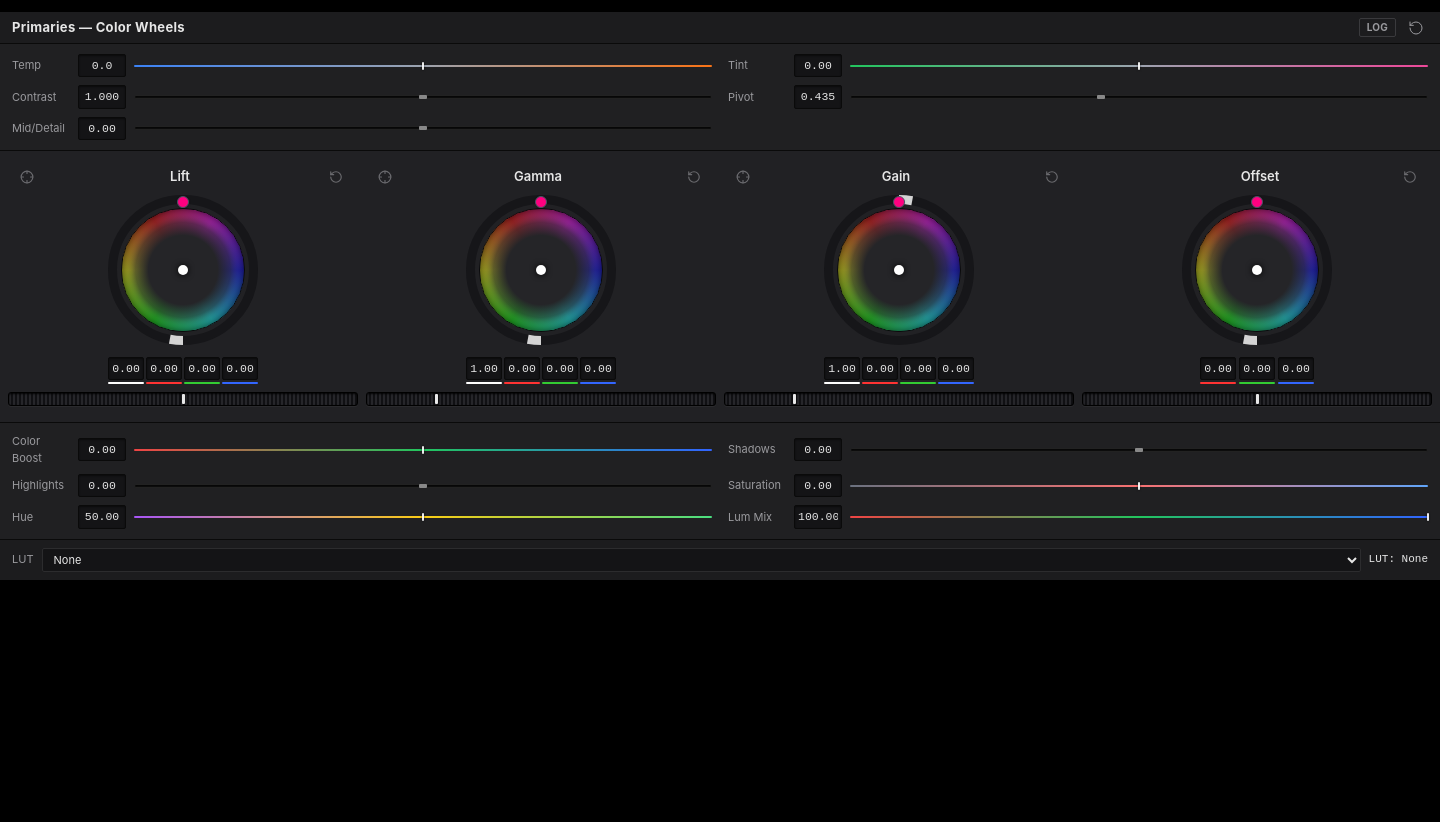
Test: R25-W3 (A3): the disc drag — RELATIVE/ACCUMULATING, live, rim-clamped › the YRGB readouts update LIVE during the drag (before pointer-up)
The image size is (1440, 822).
Expected: the picture named "Lift B" reads "0.00", left=226, top=362, right=254, bottom=375
Press the mouse on the picture with test id "shell-color-wheel-lift" at (183, 270), box left=108, top=195, right=258, bottom=345
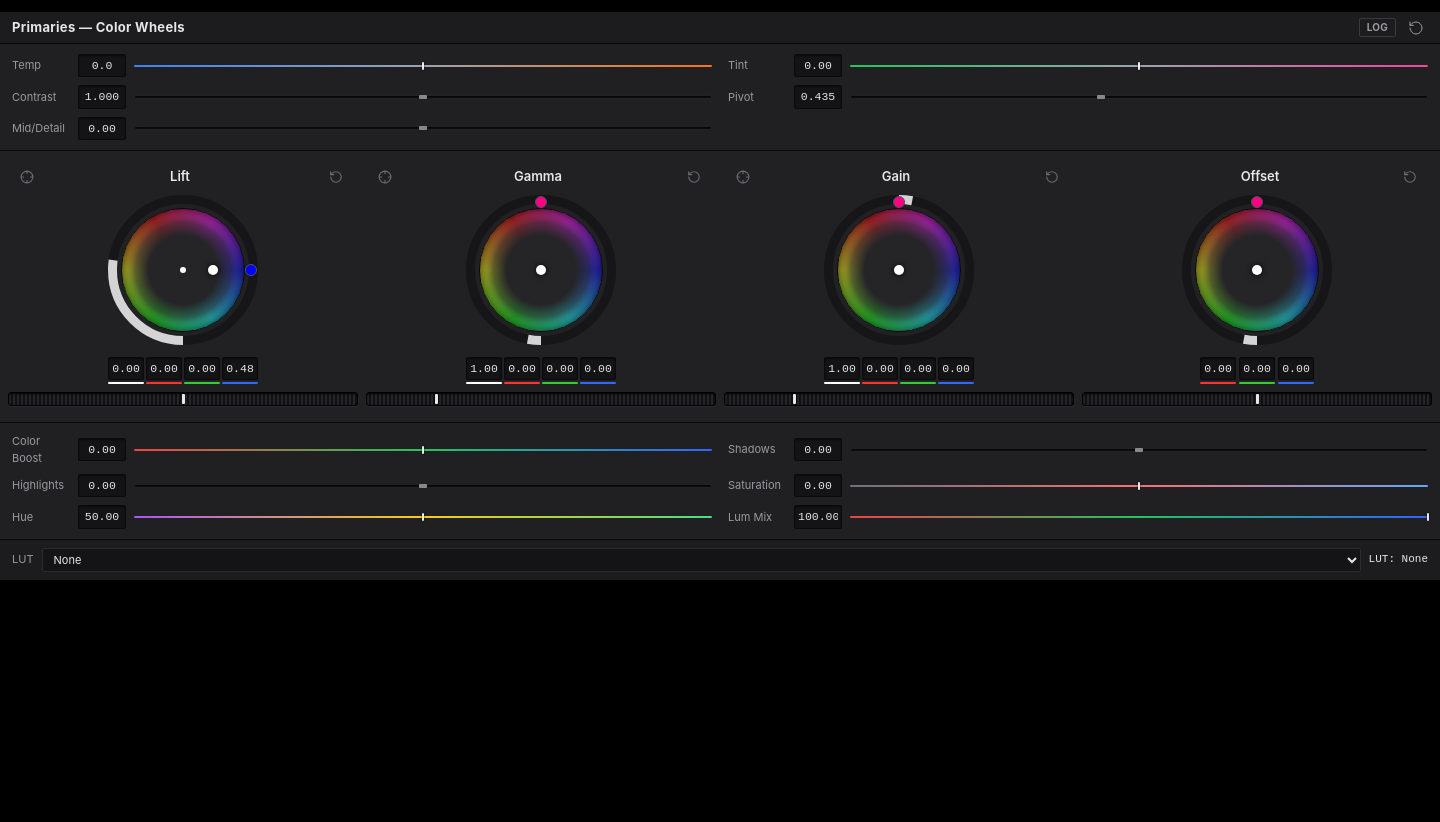
Expected: the picture named "Lift R" reads "0.00", left=150, top=362, right=178, bottom=375
Expected: the picture named "Lift B" reads "0.48", left=226, top=362, right=254, bottom=375
